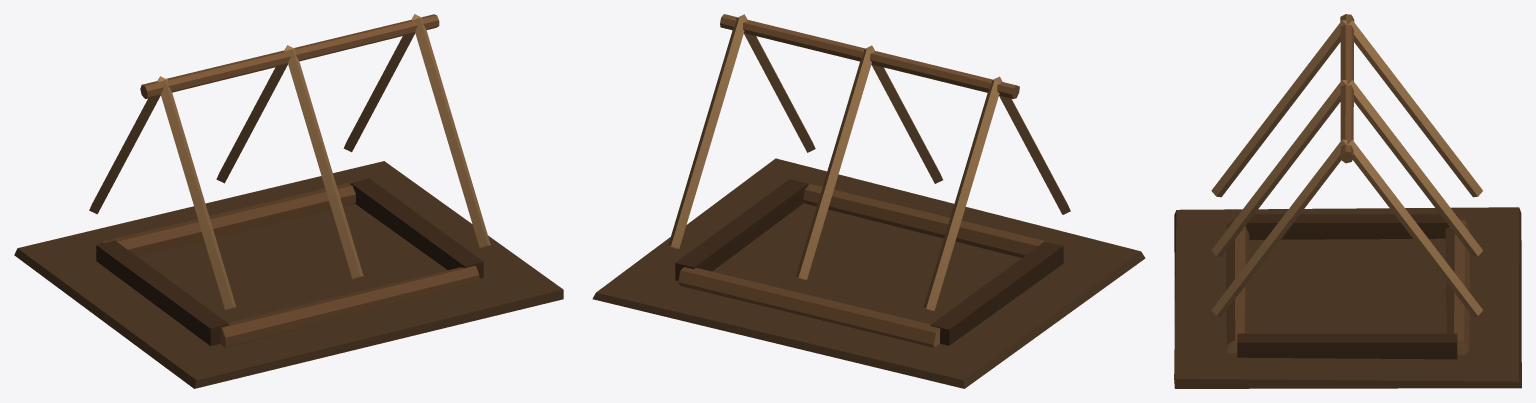
The model's file is house_2_s1.glb.
3 views of the same model, side by side, from view 1: azimuth 30°, elevation 25°; view 2: azimuth 150°, elevation 25°; view 3: azimuth 270°, elevation 25° (orthographic). The views are drawn at different scales.
Parts seen in each view (by area): view 1: house_2_s1; view 2: house_2_s1; view 3: house_2_s1.
Boxes of the visible parts, box(x1,y1,x2,y2) form: house_2_s1: box(14, 14, 563, 388); house_2_s1: box(592, 14, 1145, 388); house_2_s1: box(1174, 14, 1521, 388).
Bounding box in the file's own units: 1.97 × 1.17 × 1.66.
